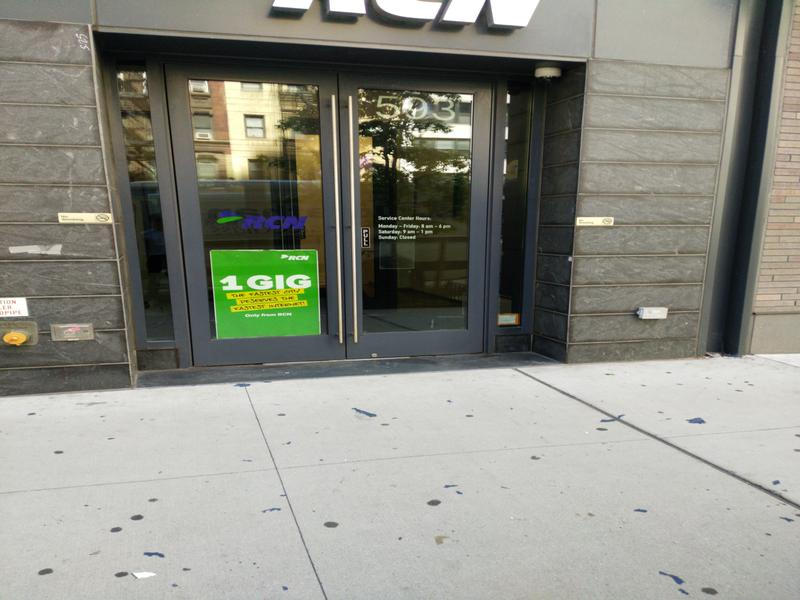double_door: (164, 48, 501, 366)
